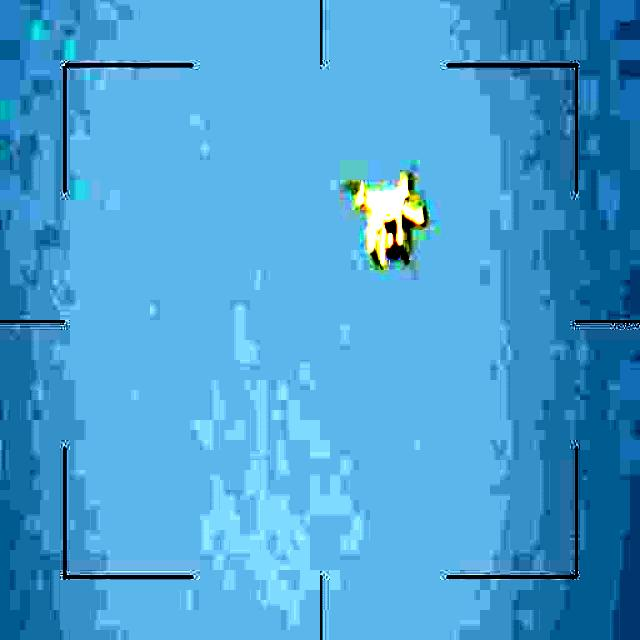bird: (341, 174, 432, 270)
